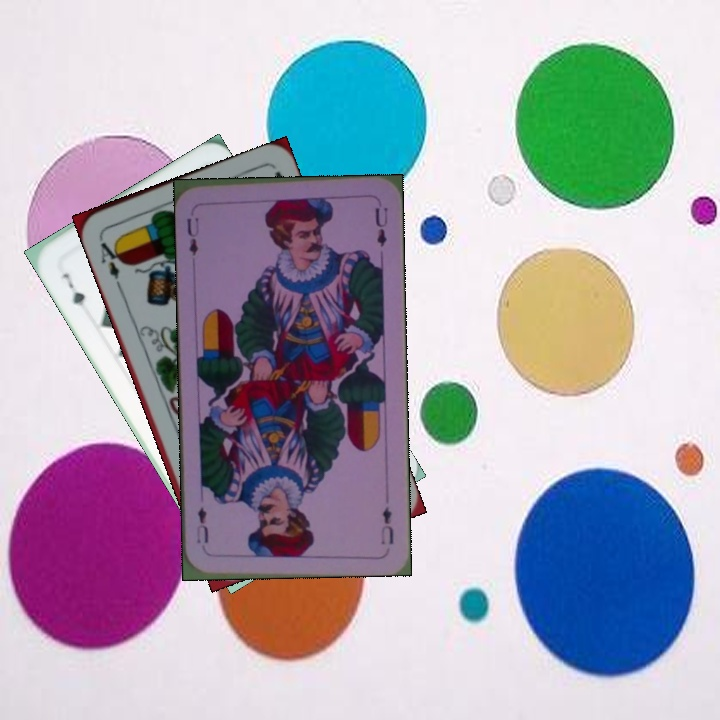EA: (95, 232, 126, 289)
EU: (183, 213, 202, 258), (377, 502, 396, 547)
G7: (58, 268, 88, 309)
